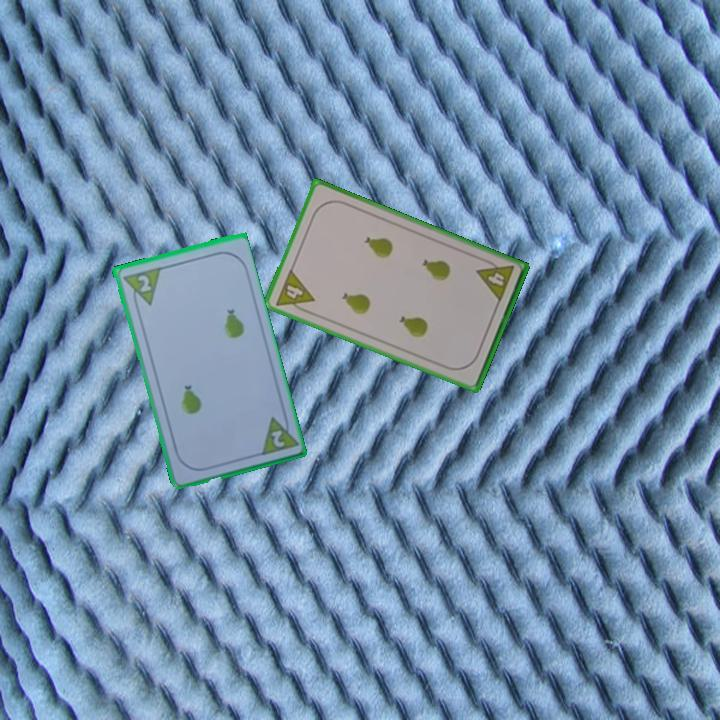2p: (256, 410, 300, 458), (134, 271, 154, 295)
4p: (272, 266, 317, 317), (473, 255, 517, 305)
